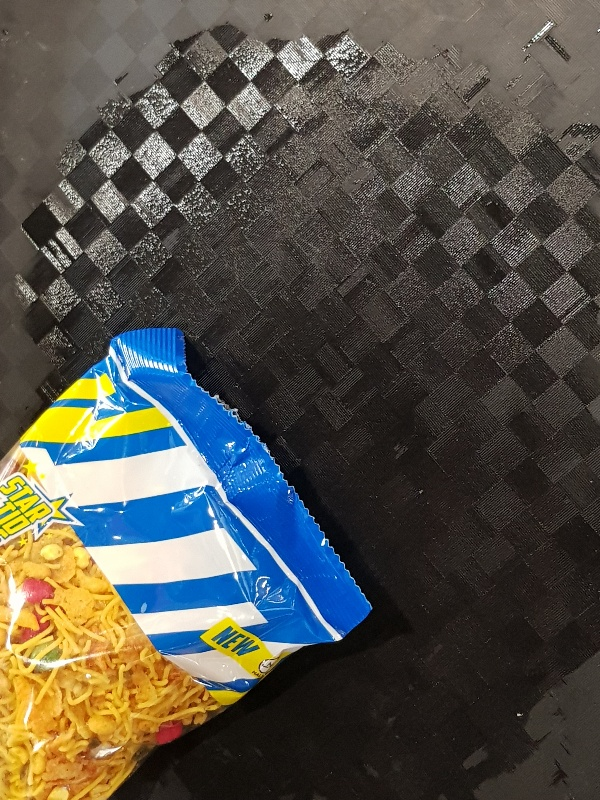Star Tidbits Mixer: (1, 326, 375, 800)
